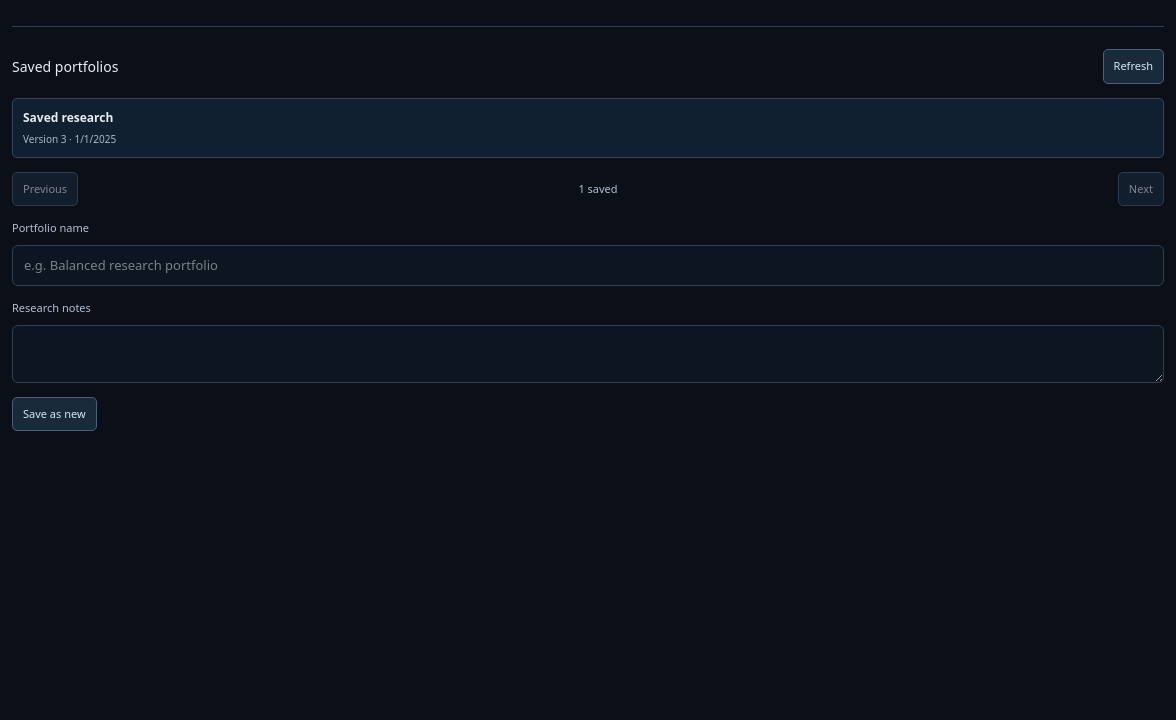
Test: shows conflict errors without silently overwriting
What coordinates should you click on to do the following:
click the button "Saved research Version 3 · 1/1/2025"
I would click on:
 (68, 117)
Its box is [12, 98, 1164, 158].
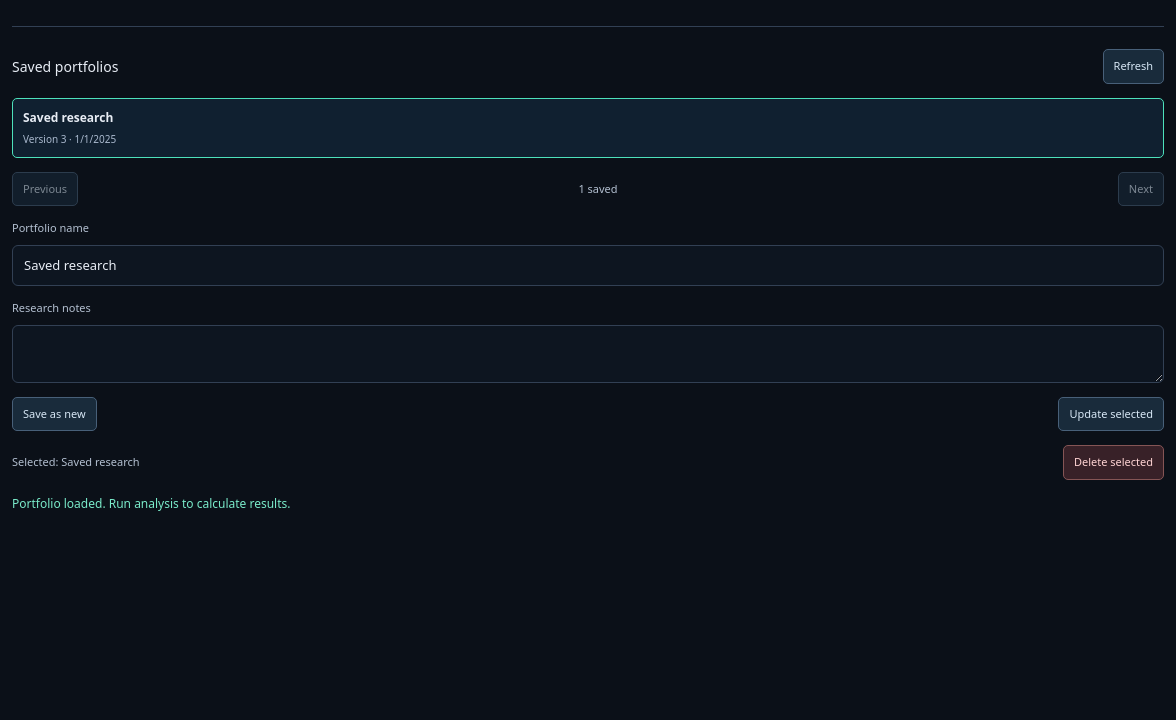
What coordinates should you click on to do the following:
click the button "Update selected"
I would click on:
 (1111, 414)
Its box is [1058, 397, 1164, 431].
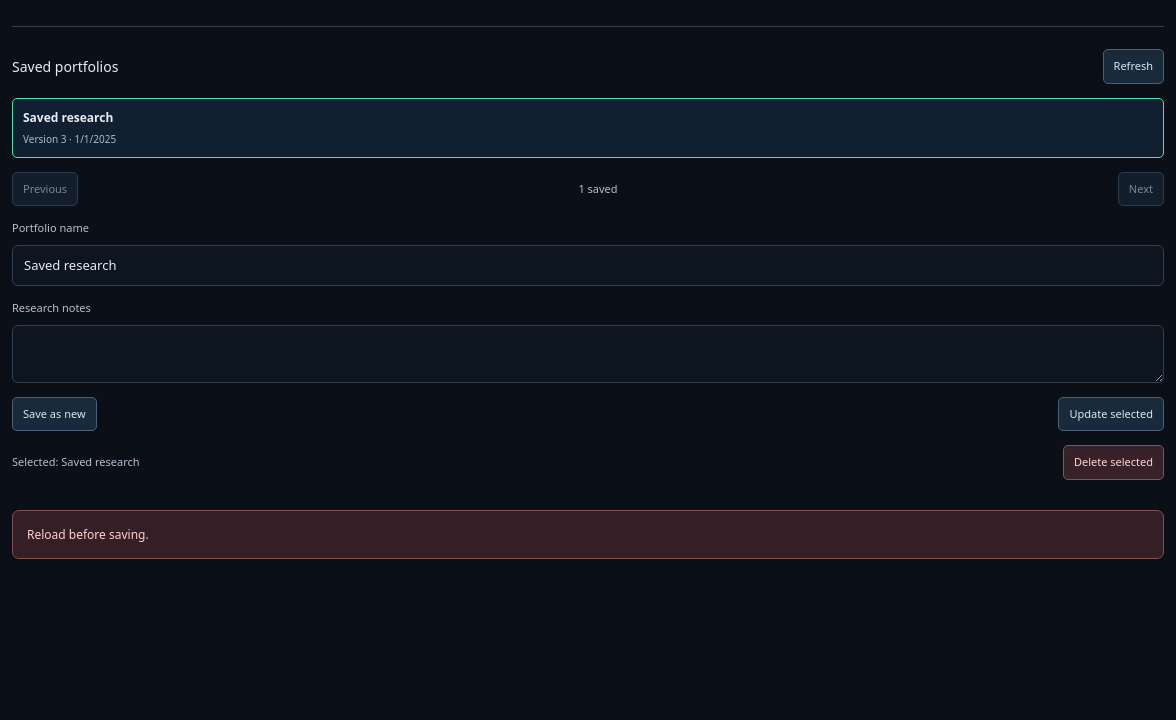
Now the button "Update selected" is enabled, box [1058, 397, 1164, 431]
Now the message reads "Reload before saving.", box [27, 526, 149, 543]
